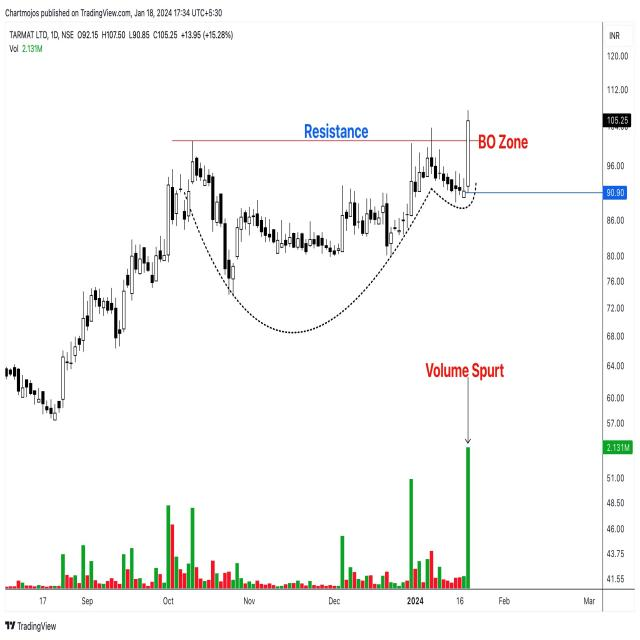Cup-and-handle: (180, 148, 482, 291)
